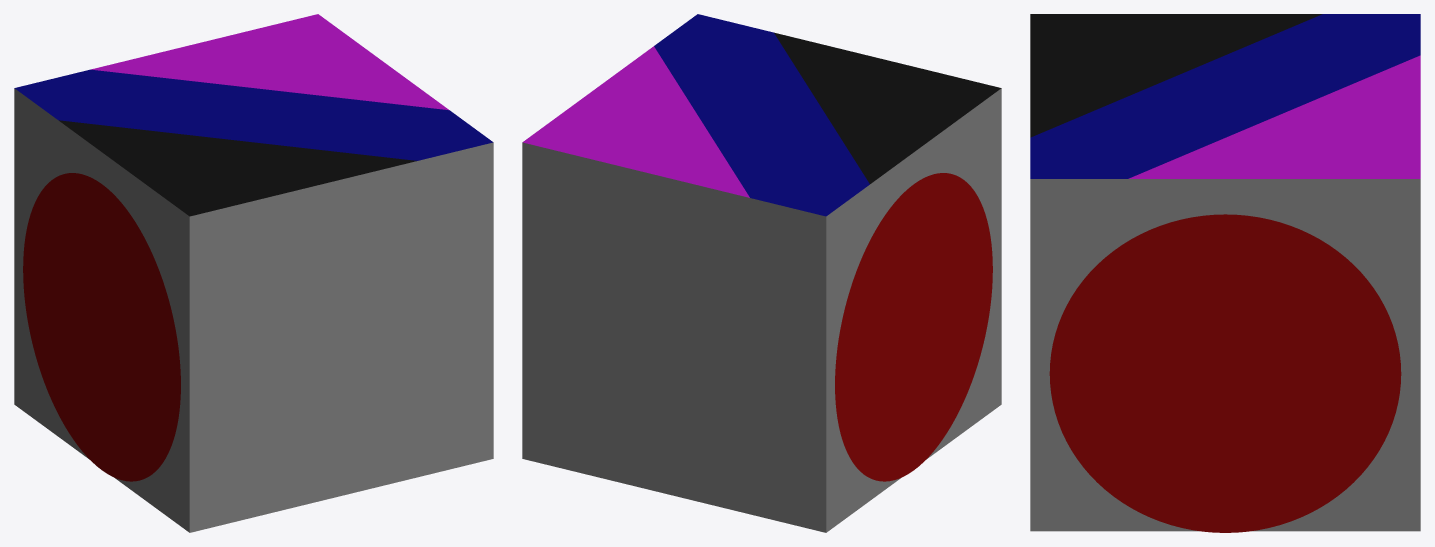
The model's file is Blue2.FBX.
3 renders of one model, left to right at view 1: azimuth 30°, elevation 25°; view 2: azimuth 150°, elevation 25°; view 3: azimuth 270°, elevation 25°, orthographic. The views are drawn at different scales.
Parts seen in each view (by area): view 1: Body, WheelR; view 2: Body, WheelR; view 3: Body, WheelL.
Boxes of the visible parts, x1=… form: Body: x1=14, y1=14, x2=493, y2=532; WheelR: x1=23, y1=173, x2=180, y2=481; Body: x1=522, y1=14, x2=1001, y2=532; WheelR: x1=835, y1=173, x2=992, y2=481; Body: x1=1030, y1=14, x2=1420, y2=531; WheelL: x1=1049, y1=214, x2=1401, y2=532.
Bounding box in the file's own units: 7.87 × 7.87 × 7.87.
